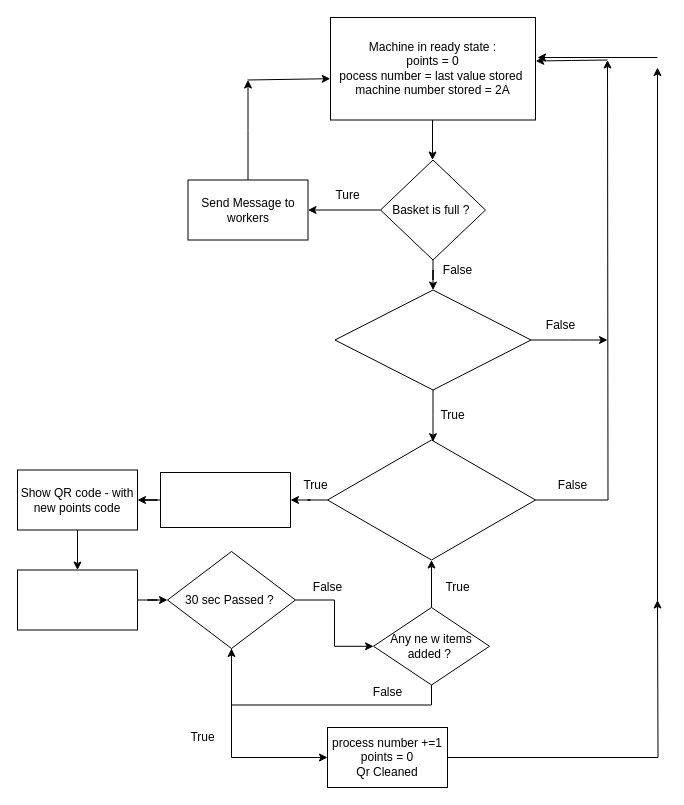
The diagram is 684 pixels wide and 805 high, and some of its shapes have lost their labels. Each missing label, with the centre of its shape:
Any sensor detect any item ?: point 432,339
is this right item in right slot "plastic item in plastic slot ?": point 431,499
points += value of item: point 225,500
Start Counter 30 sec: point 77,599
